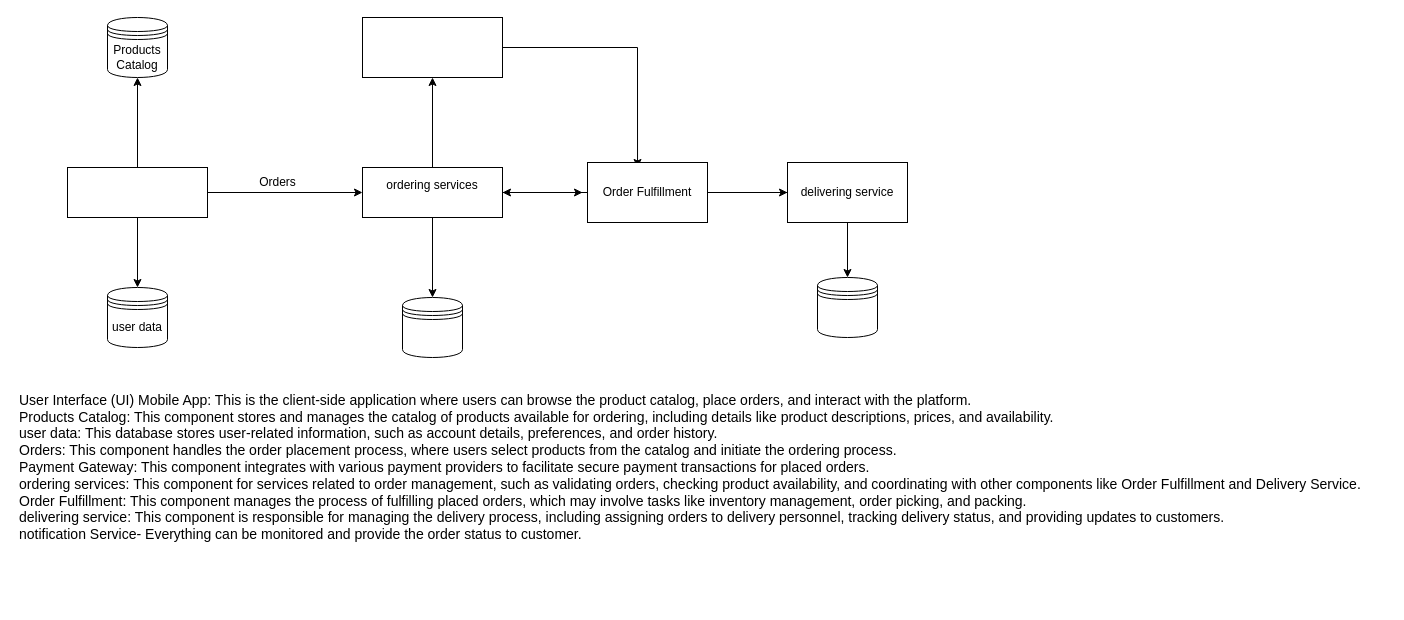
Image size: 1404x620. Some labels were removed from this diagram. Here are the shapes that lost their labels. From the top down, the centre of each, then its label:
point (432, 47): Payment Gateway
point (137, 192): User Interface (UI) Mobile App
